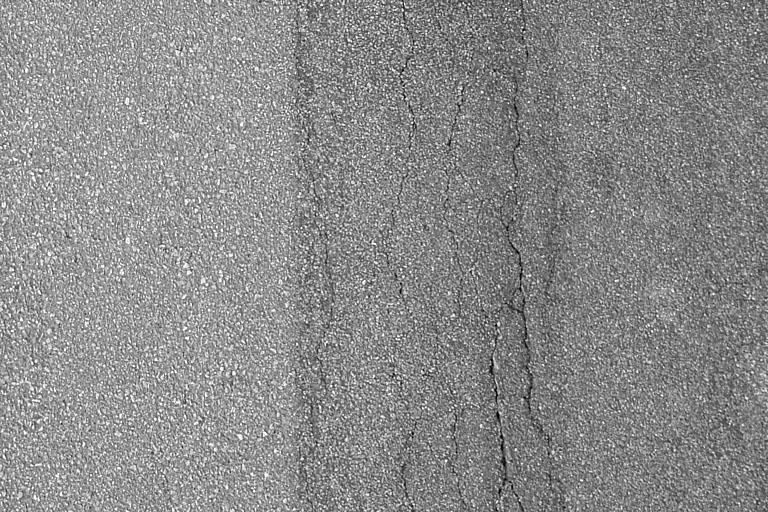crack: (508, 1, 559, 512), (381, 2, 424, 512), (437, 3, 468, 512), (479, 329, 526, 512)
